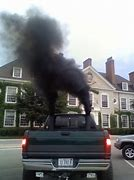smoke: (5, 12, 92, 113)
